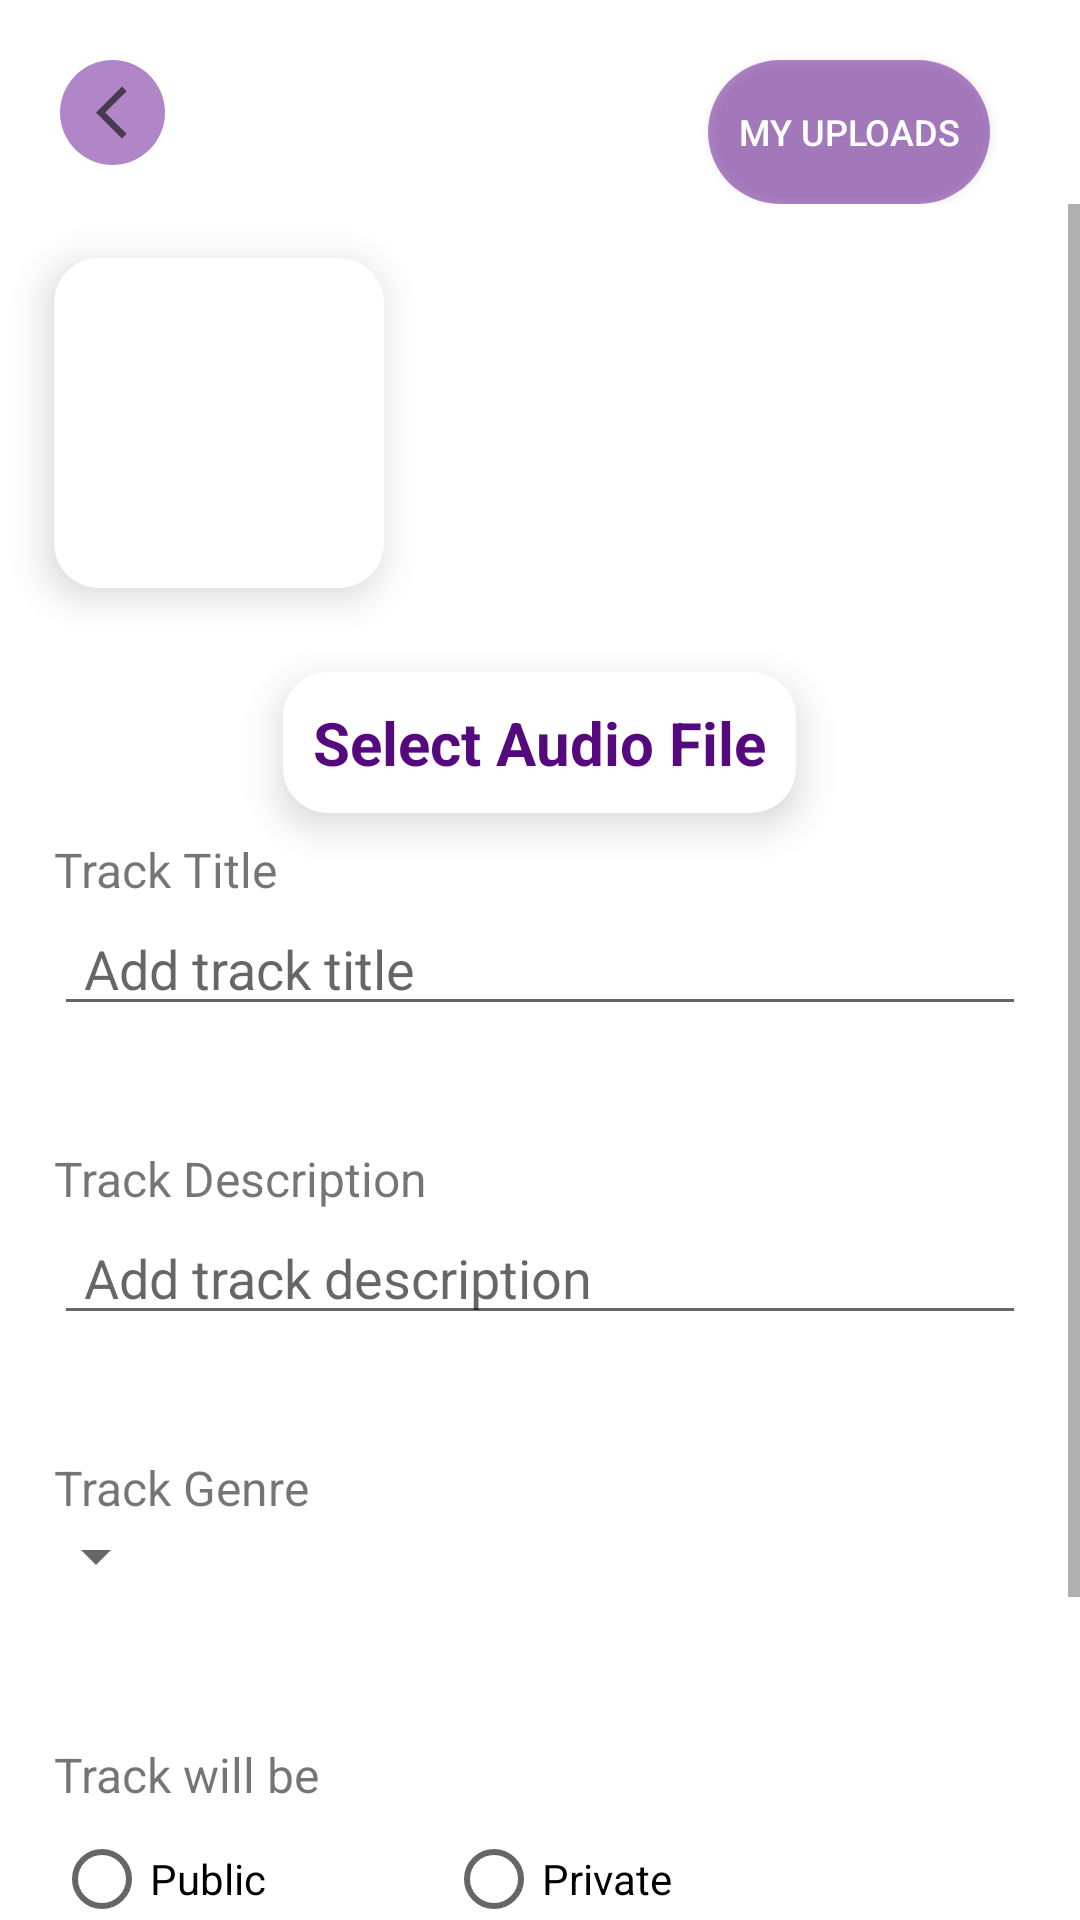

Icons on this 1080*1920 Android screen, each with the point to tap as point (x, y):
back: point (112, 112)
